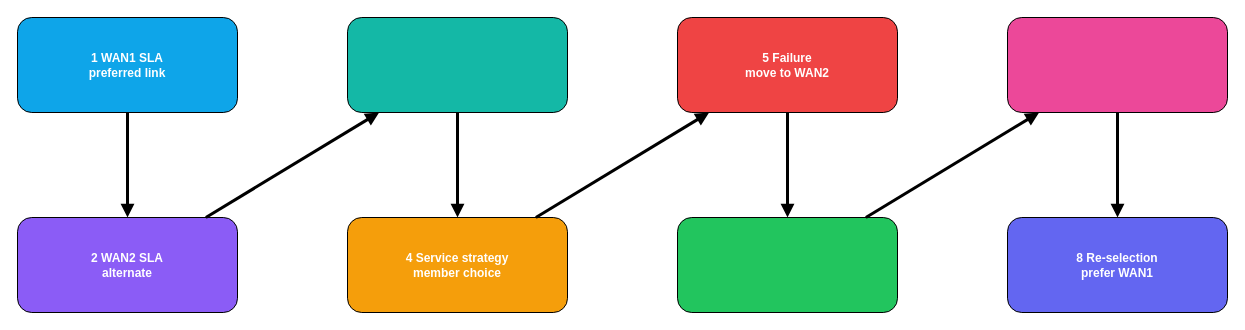
Some shapes in this 1245 by 330 pixel diagram are drawn without their labels. Each missing label, with the centre of its shape:
3 Health engine quality state: (457,64)
6 WAN1 recovers SLA healthy: (787,264)
7 Hold-down timer wait N seconds: (1117,64)
